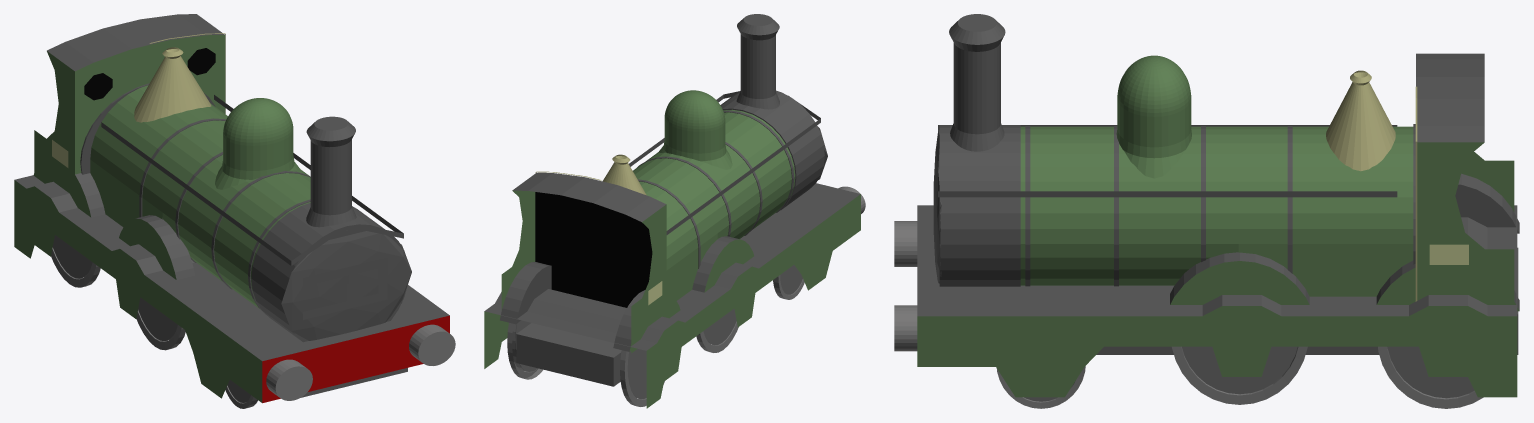
File: mr-kirtley156-green.dae
3 renders of one model, left to right at view 1: azimuth 30°, elevation 25°; view 2: azimuth 150°, elevation 25°; view 3: azimuth 270°, elevation 25°, orthographic. The views are drawn at different scales.
Parts seen in each view (by area): view 1: Cylinder_002, Plane_004, Plane_031, Cylinder_011, Sphere_002, Plane_008, Plane_002, Sphere_001, Cylinder_003, Cylinder_007, Cylinder_005, Plane (+21 smaller); view 2: Plane_050, Plane_031, Plane_004, Cylinder_002, Cylinder_011, Cube_002, Sphere_001, Cylinder_003, Cylinder_007, Plane_008, Plane_005, Plane (+16 smaller); view 3: Plane_004, Cylinder_002, Cylinder_011, Plane_031, Cylinder_003, Sphere_001, Plane, Cylinder_007, Cylinder_006, Cylinder_005, Circle, Plane_006 (+19 smaller).
Boxes of the visible parts, x1,y1,x2,y2 form: Cylinder_002: [162, 137, 310, 308]; Plane_004: [14, 180, 262, 402]; Plane_031: [14, 175, 449, 361]; Cylinder_011: [90, 85, 227, 227]; Sphere_002: [281, 230, 411, 340]; Plane_008: [34, 45, 149, 202]; Plane_002: [262, 315, 449, 402]; Sphere_001: [215, 98, 300, 189]; Cylinder_003: [251, 203, 407, 342]; Cylinder_007: [306, 116, 356, 227]; Cylinder_005: [134, 47, 211, 122]; Plane: [150, 35, 225, 113]; Plane_050: [535, 192, 652, 307]; Plane_031: [484, 183, 860, 350]; Plane_004: [484, 194, 860, 408]; Cylinder_002: [633, 109, 795, 238]; Cylinder_011: [633, 166, 717, 300]; Cube_002: [516, 323, 621, 386]; Sphere_001: [658, 90, 732, 169]; Cylinder_003: [720, 90, 824, 210]; Cylinder_007: [736, 14, 779, 109]; Plane_008: [631, 204, 666, 352]; Plane_005: [577, 181, 666, 221]; Plane: [501, 190, 535, 321]; Plane_004: [917, 306, 1517, 397]; Cylinder_002: [1020, 126, 1239, 285]; Cylinder_011: [1238, 126, 1413, 296]; Plane_031: [917, 205, 1517, 316]; Cylinder_003: [939, 125, 1020, 286]; Sphere_001: [1116, 55, 1191, 178]; Plane: [1417, 142, 1514, 304]; Cylinder_007: [949, 14, 1005, 151]; Cylinder_006: [1172, 346, 1307, 404]; Cylinder_005: [1326, 70, 1395, 171]; Circle: [1170, 261, 1309, 304]; Plane_006: [1417, 88, 1484, 142].
Size of the model in its own units: 2 by 4.77 by 2.91.
